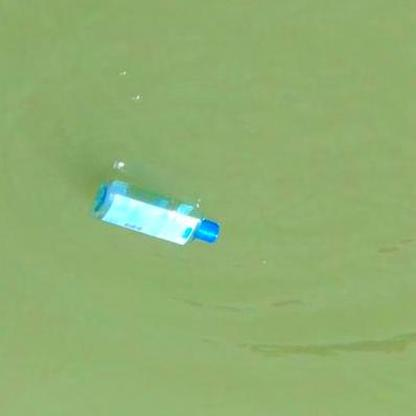plastic bottle: (91, 181, 221, 247)
